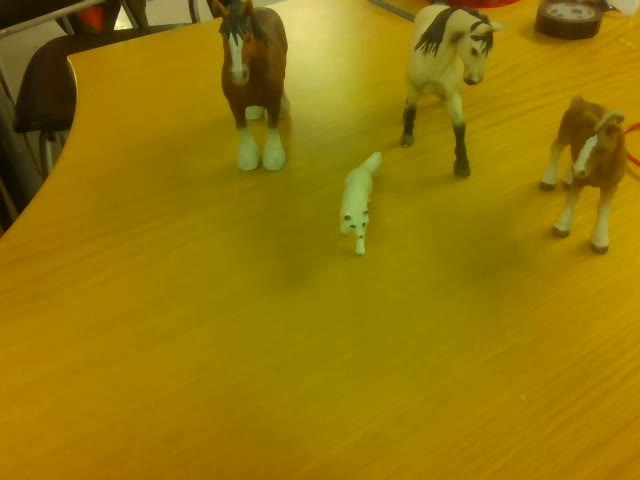toy: (400, 1, 502, 180), (207, 1, 291, 173), (545, 95, 624, 254), (338, 150, 382, 256)
